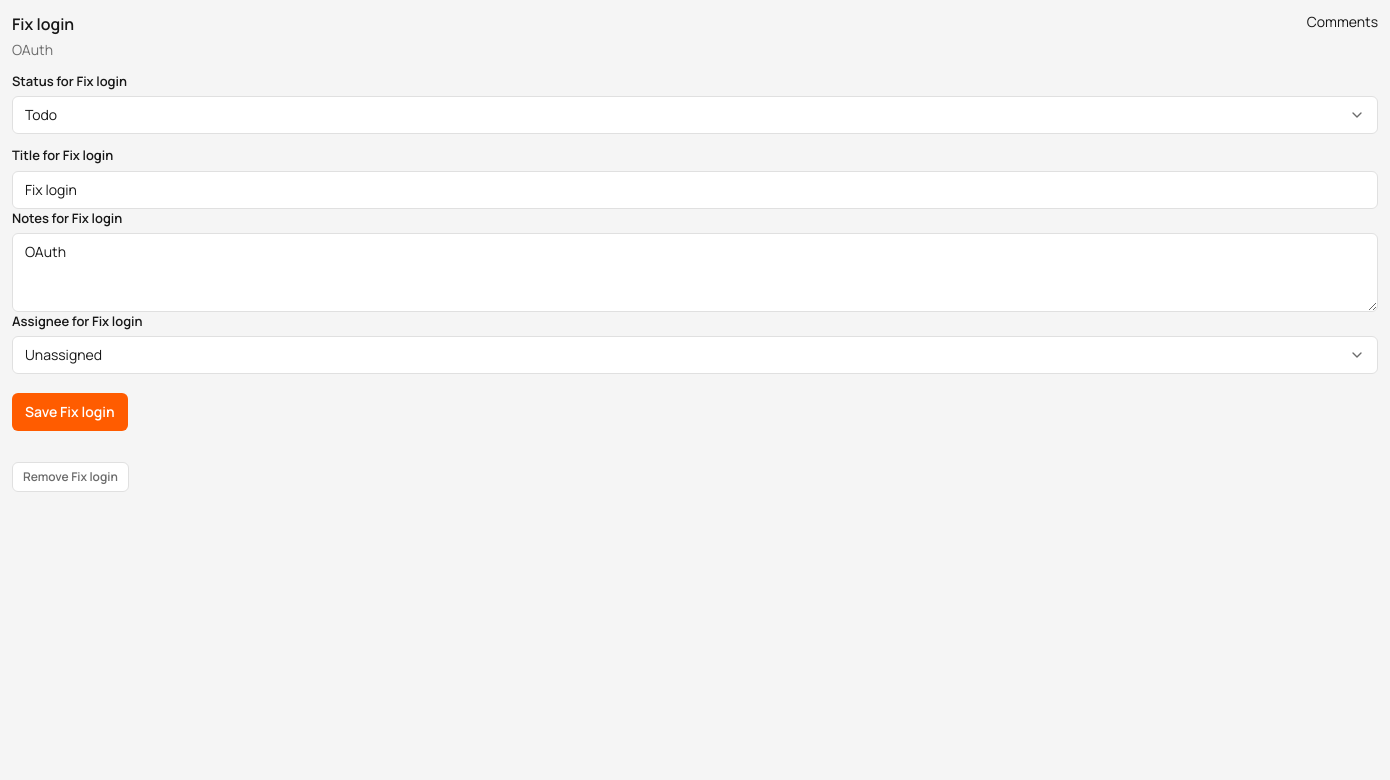
Test: TaskList › shows a not-found error from the API
Click the button "Remove Fix login".
click(70, 478)  # box [12, 462, 129, 492]
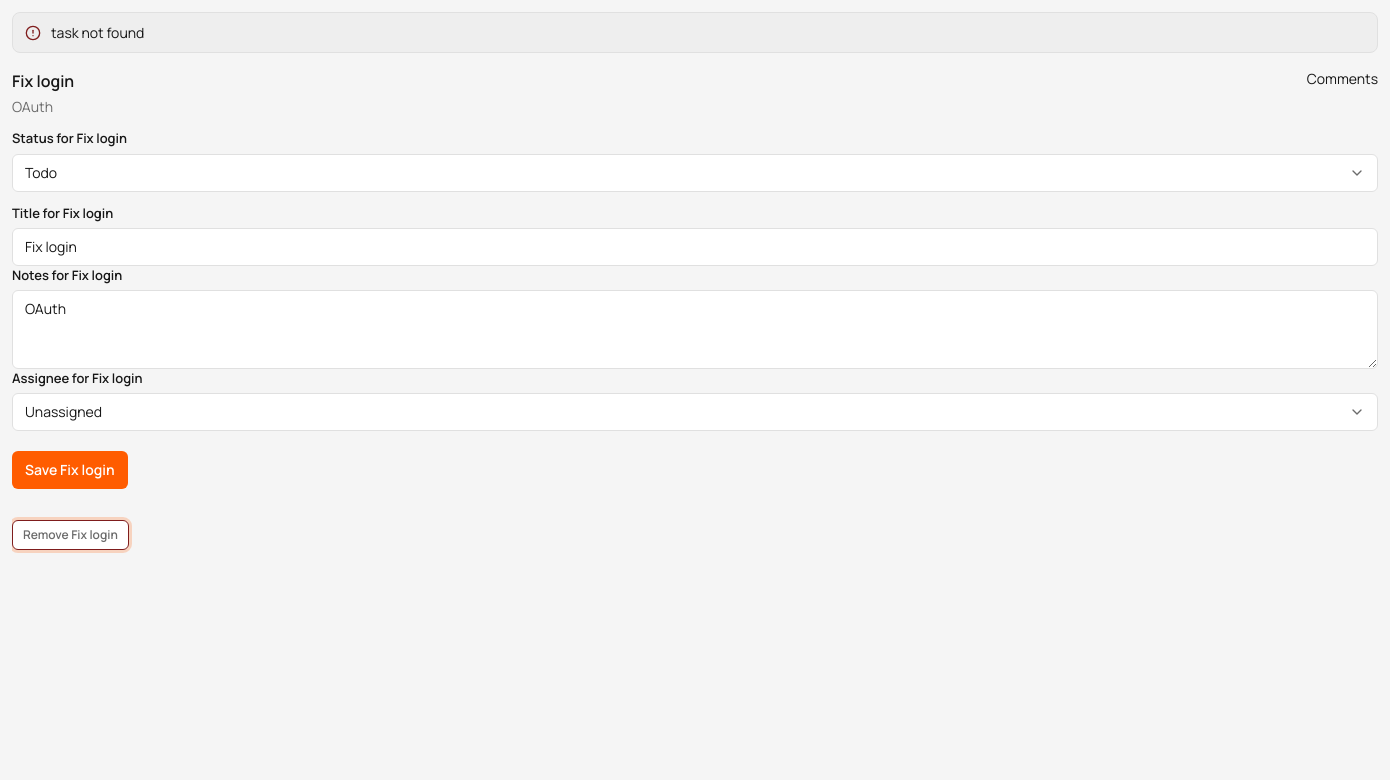
expect the message reads "task not found": met, box [51, 23, 144, 42]
